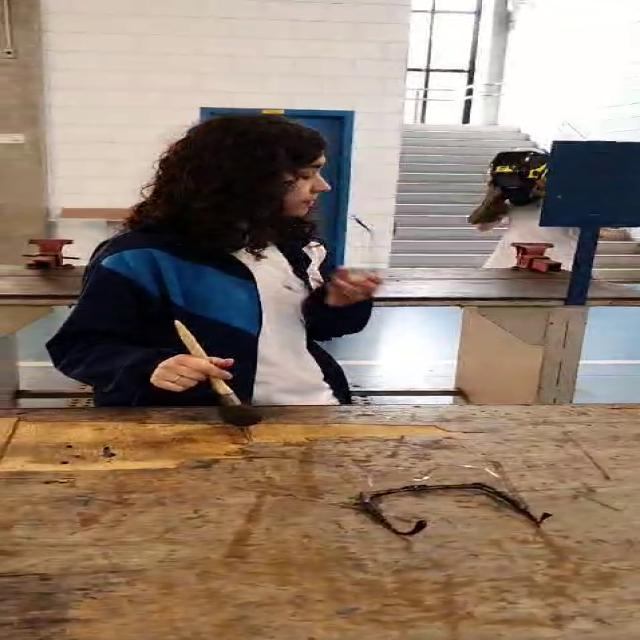sem_oculos: (284, 164, 340, 185)
